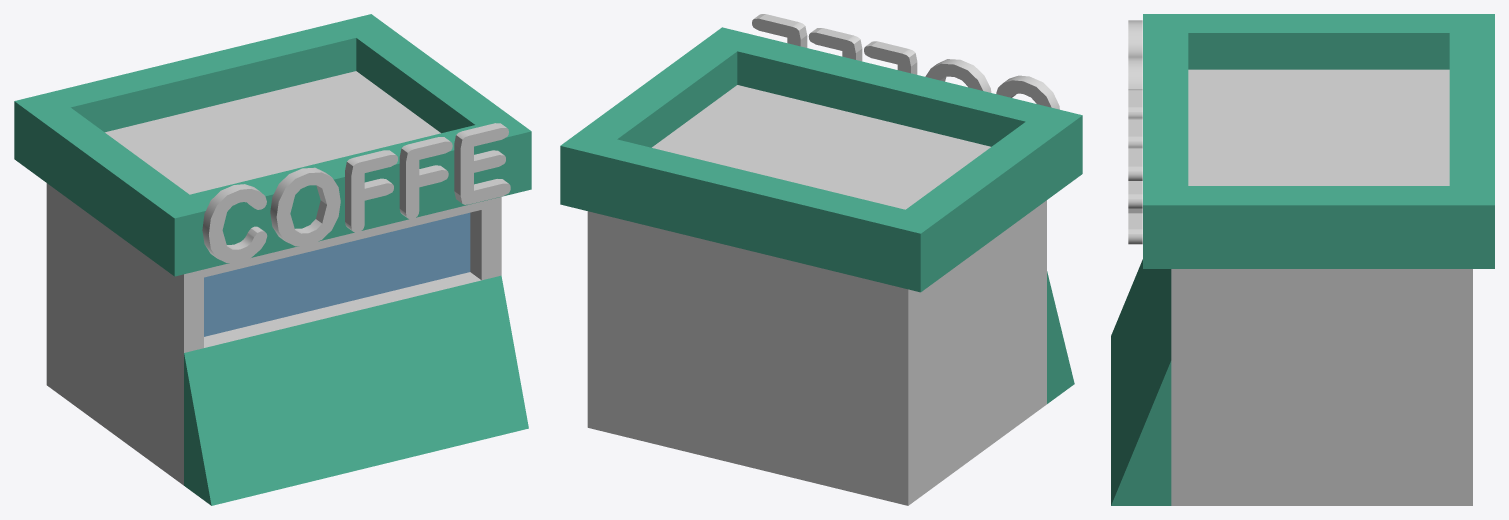
The model's file is Buffet.fbx.
The picture shows the model from 3 angles, left to right: view 1: azimuth 30°, elevation 25°; view 2: azimuth 150°, elevation 25°; view 3: azimuth 270°, elevation 25°; orthographic projection. The views are drawn at different scales.
Visible parts, largest first — view 1: Buffet, Buffet_Text; view 2: Buffet, Buffet_Text; view 3: Buffet, Buffet_Text.
Boxes of the visible parts, x1=… form: Buffet: x1=14, y1=14, x2=531, y2=505; Buffet_Text: x1=202, y1=123, x2=510, y2=262; Buffet: x1=560, y1=27, x2=1082, y2=505; Buffet_Text: x1=752, y1=14, x2=1059, y2=109; Buffet: x1=1111, y1=14, x2=1494, y2=505; Buffet_Text: x1=1128, y1=20, x2=1142, y2=244.
Size of the model in its own units: 450 by 363 by 382.
